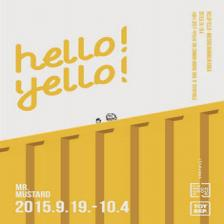yellow: (1, 102, 224, 224)
